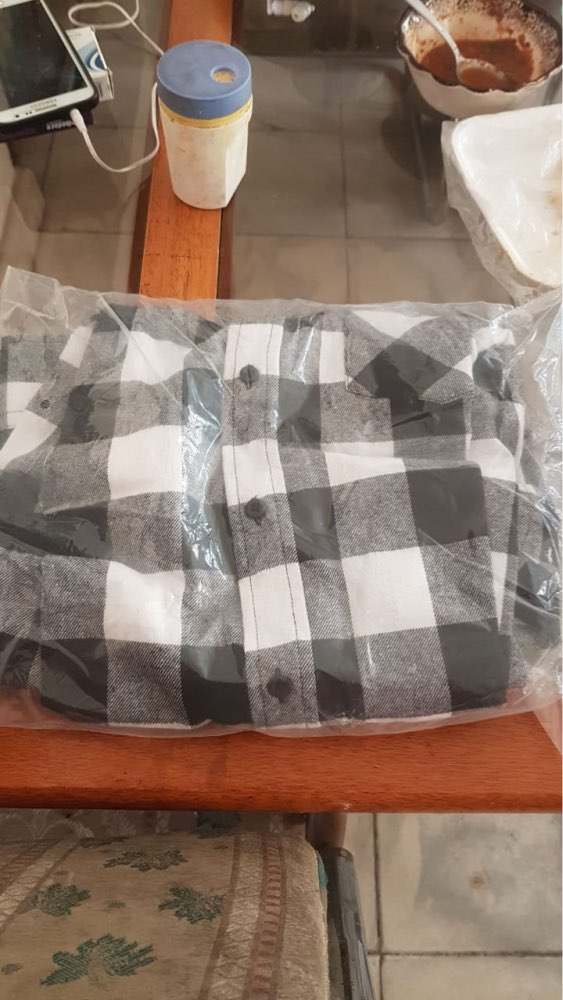shirts: (5, 286, 539, 742)
